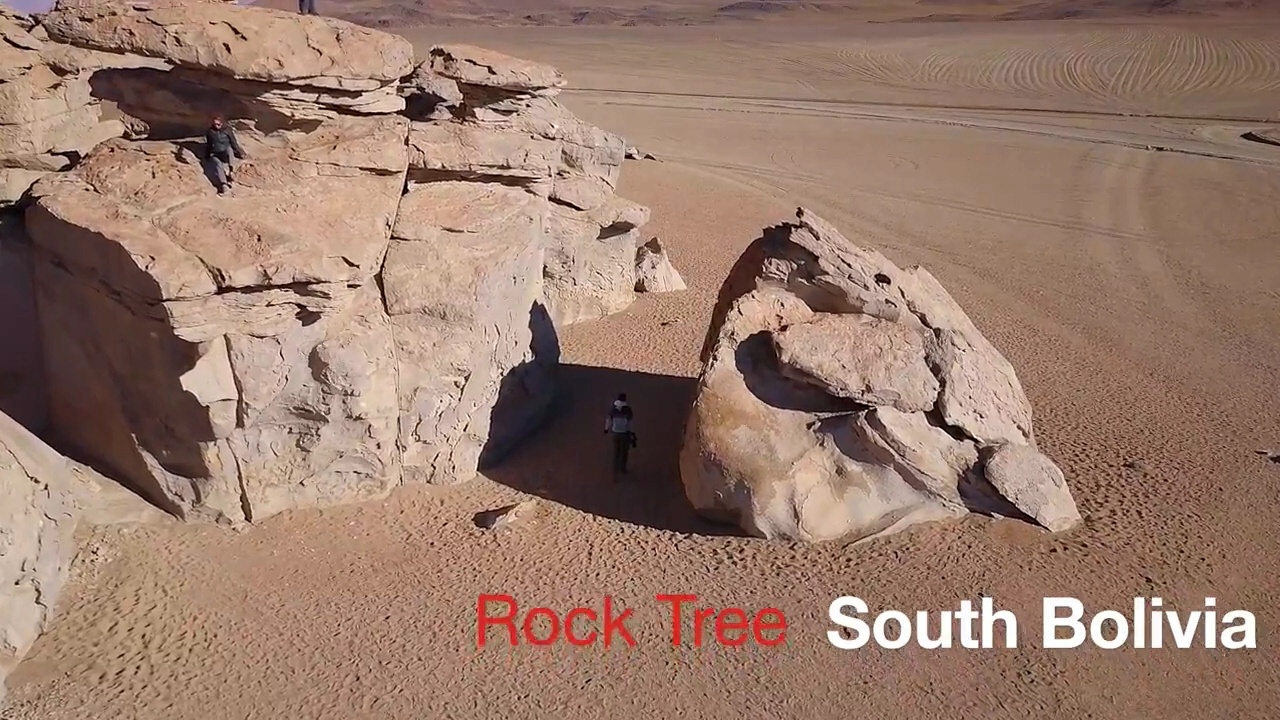insan: (600, 390, 641, 488)
